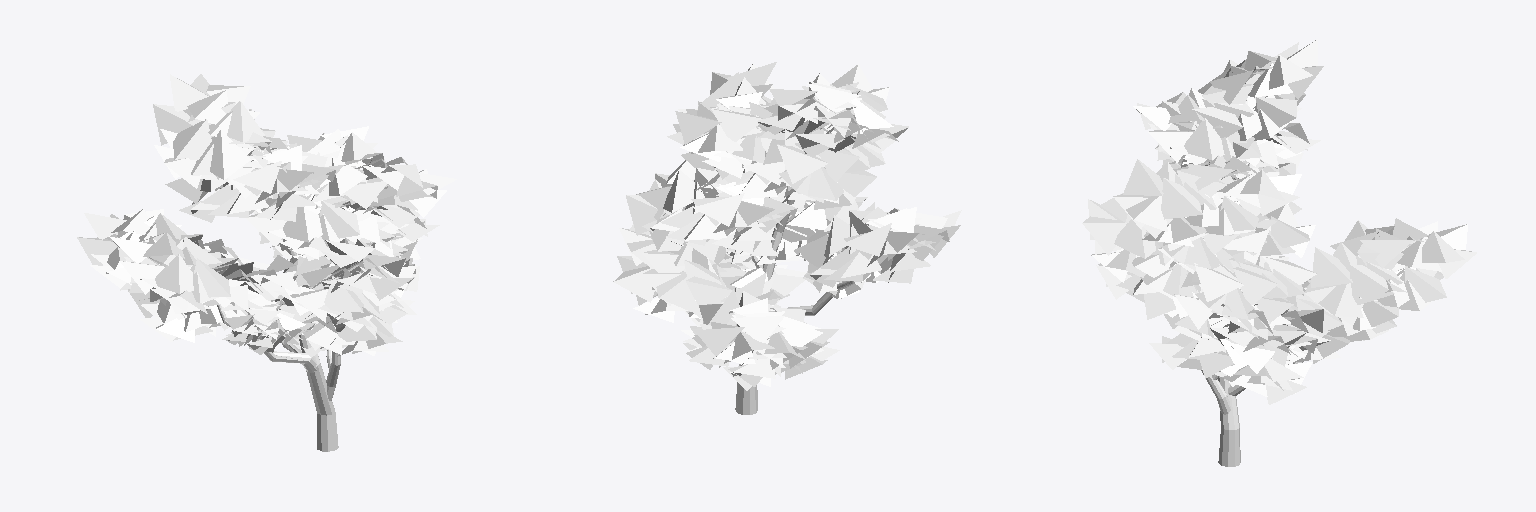
Rendered from quercus.obj.
3 views of the same model, side by side, from view 1: azimuth 30°, elevation 25°; view 2: azimuth 150°, elevation 25°; view 3: azimuth 270°, elevation 25° (orthographic).
Visible parts, largest first — view 1: Quercus; view 2: Quercus; view 3: Quercus.
Part boxes in pixels (left/top/right/bottom): Quercus: left=77, top=74, right=456, bottom=451; Quercus: left=613, top=62, right=961, bottom=414; Quercus: left=1082, top=39, right=1476, bottom=466.
Size of the model in its own units: 0.9506 by 1.06 by 1.03.